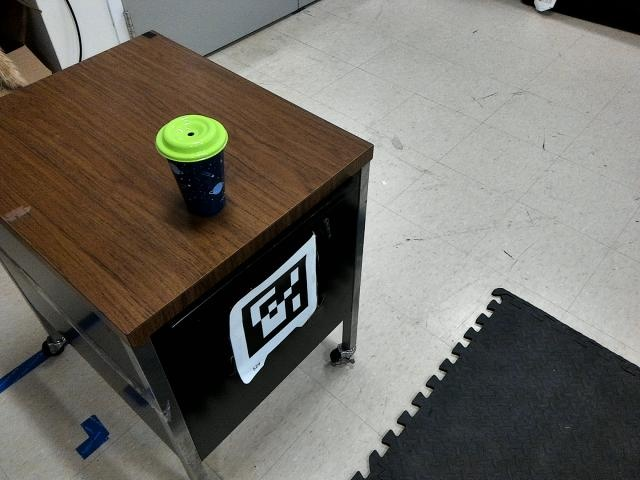useless_cup: (148, 115, 233, 207)
